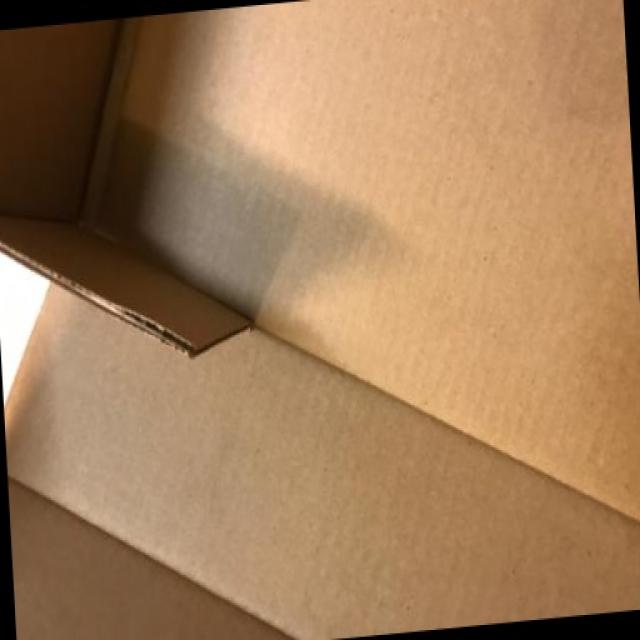carton: (42, 121, 368, 640)
